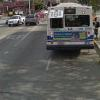Bus: (39, 2, 95, 56)
